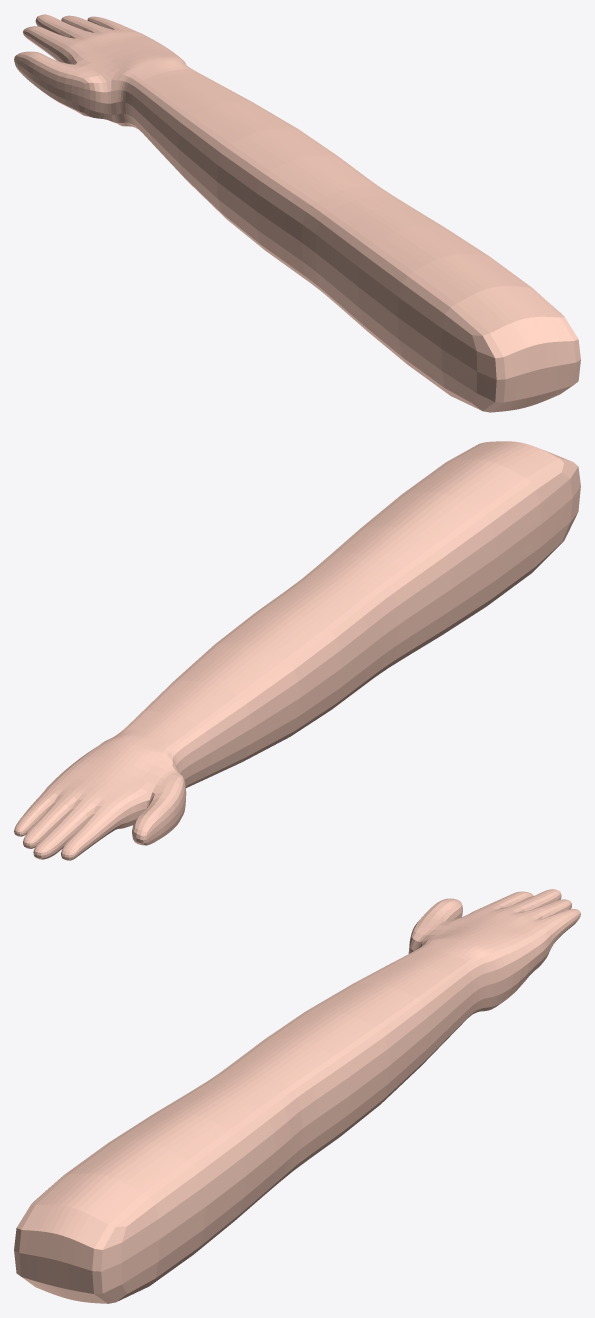
3 renders of one model, top to bottom at view 1: azimuth 30°, elevation 25°; view 2: azimuth 150°, elevation 25°; view 3: azimuth 330°, elevation 25°, orthographic. The views are drawn at different scales.
Parts seen in each view (by area): view 1: Cube; view 2: Cube; view 3: Cube.
Part boxes in pixels (x1,y1,x2,y2): Cube: [14, 14, 580, 412]; Cube: [14, 441, 580, 860]; Cube: [14, 889, 580, 1303].
Bounding box in the file's own units: 0.1167 × 0.0939 × 0.7872.
1 material, 1 textured.
